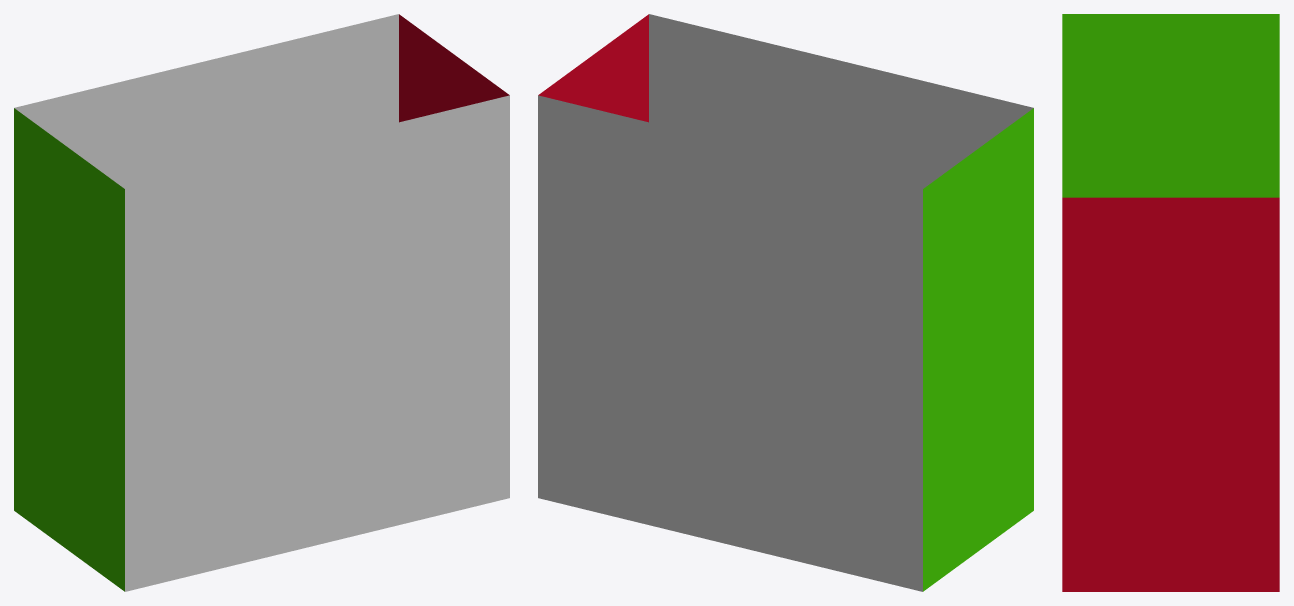
Rendered from scene_walls_cubes.dae.
The picture shows the model from 3 angles, left to right: view 1: azimuth 30°, elevation 25°; view 2: azimuth 150°, elevation 25°; view 3: azimuth 270°, elevation 25°; orthographic projection. The views are drawn at different scales.
Visible parts, largest first — view 1: Cube.002; view 2: Cube.002; view 3: Cube.002.
Boxes of the visible parts, x1=… form: Cube.002: x1=14, y1=14, x2=509, y2=591; Cube.002: x1=538, y1=14, x2=1033, y2=591; Cube.002: x1=1062, y1=14, x2=1279, y2=591.
Size of the model in its own units: 2 by 1 by 2.
